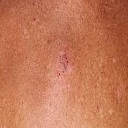Melanoma: (55, 46, 74, 77)
